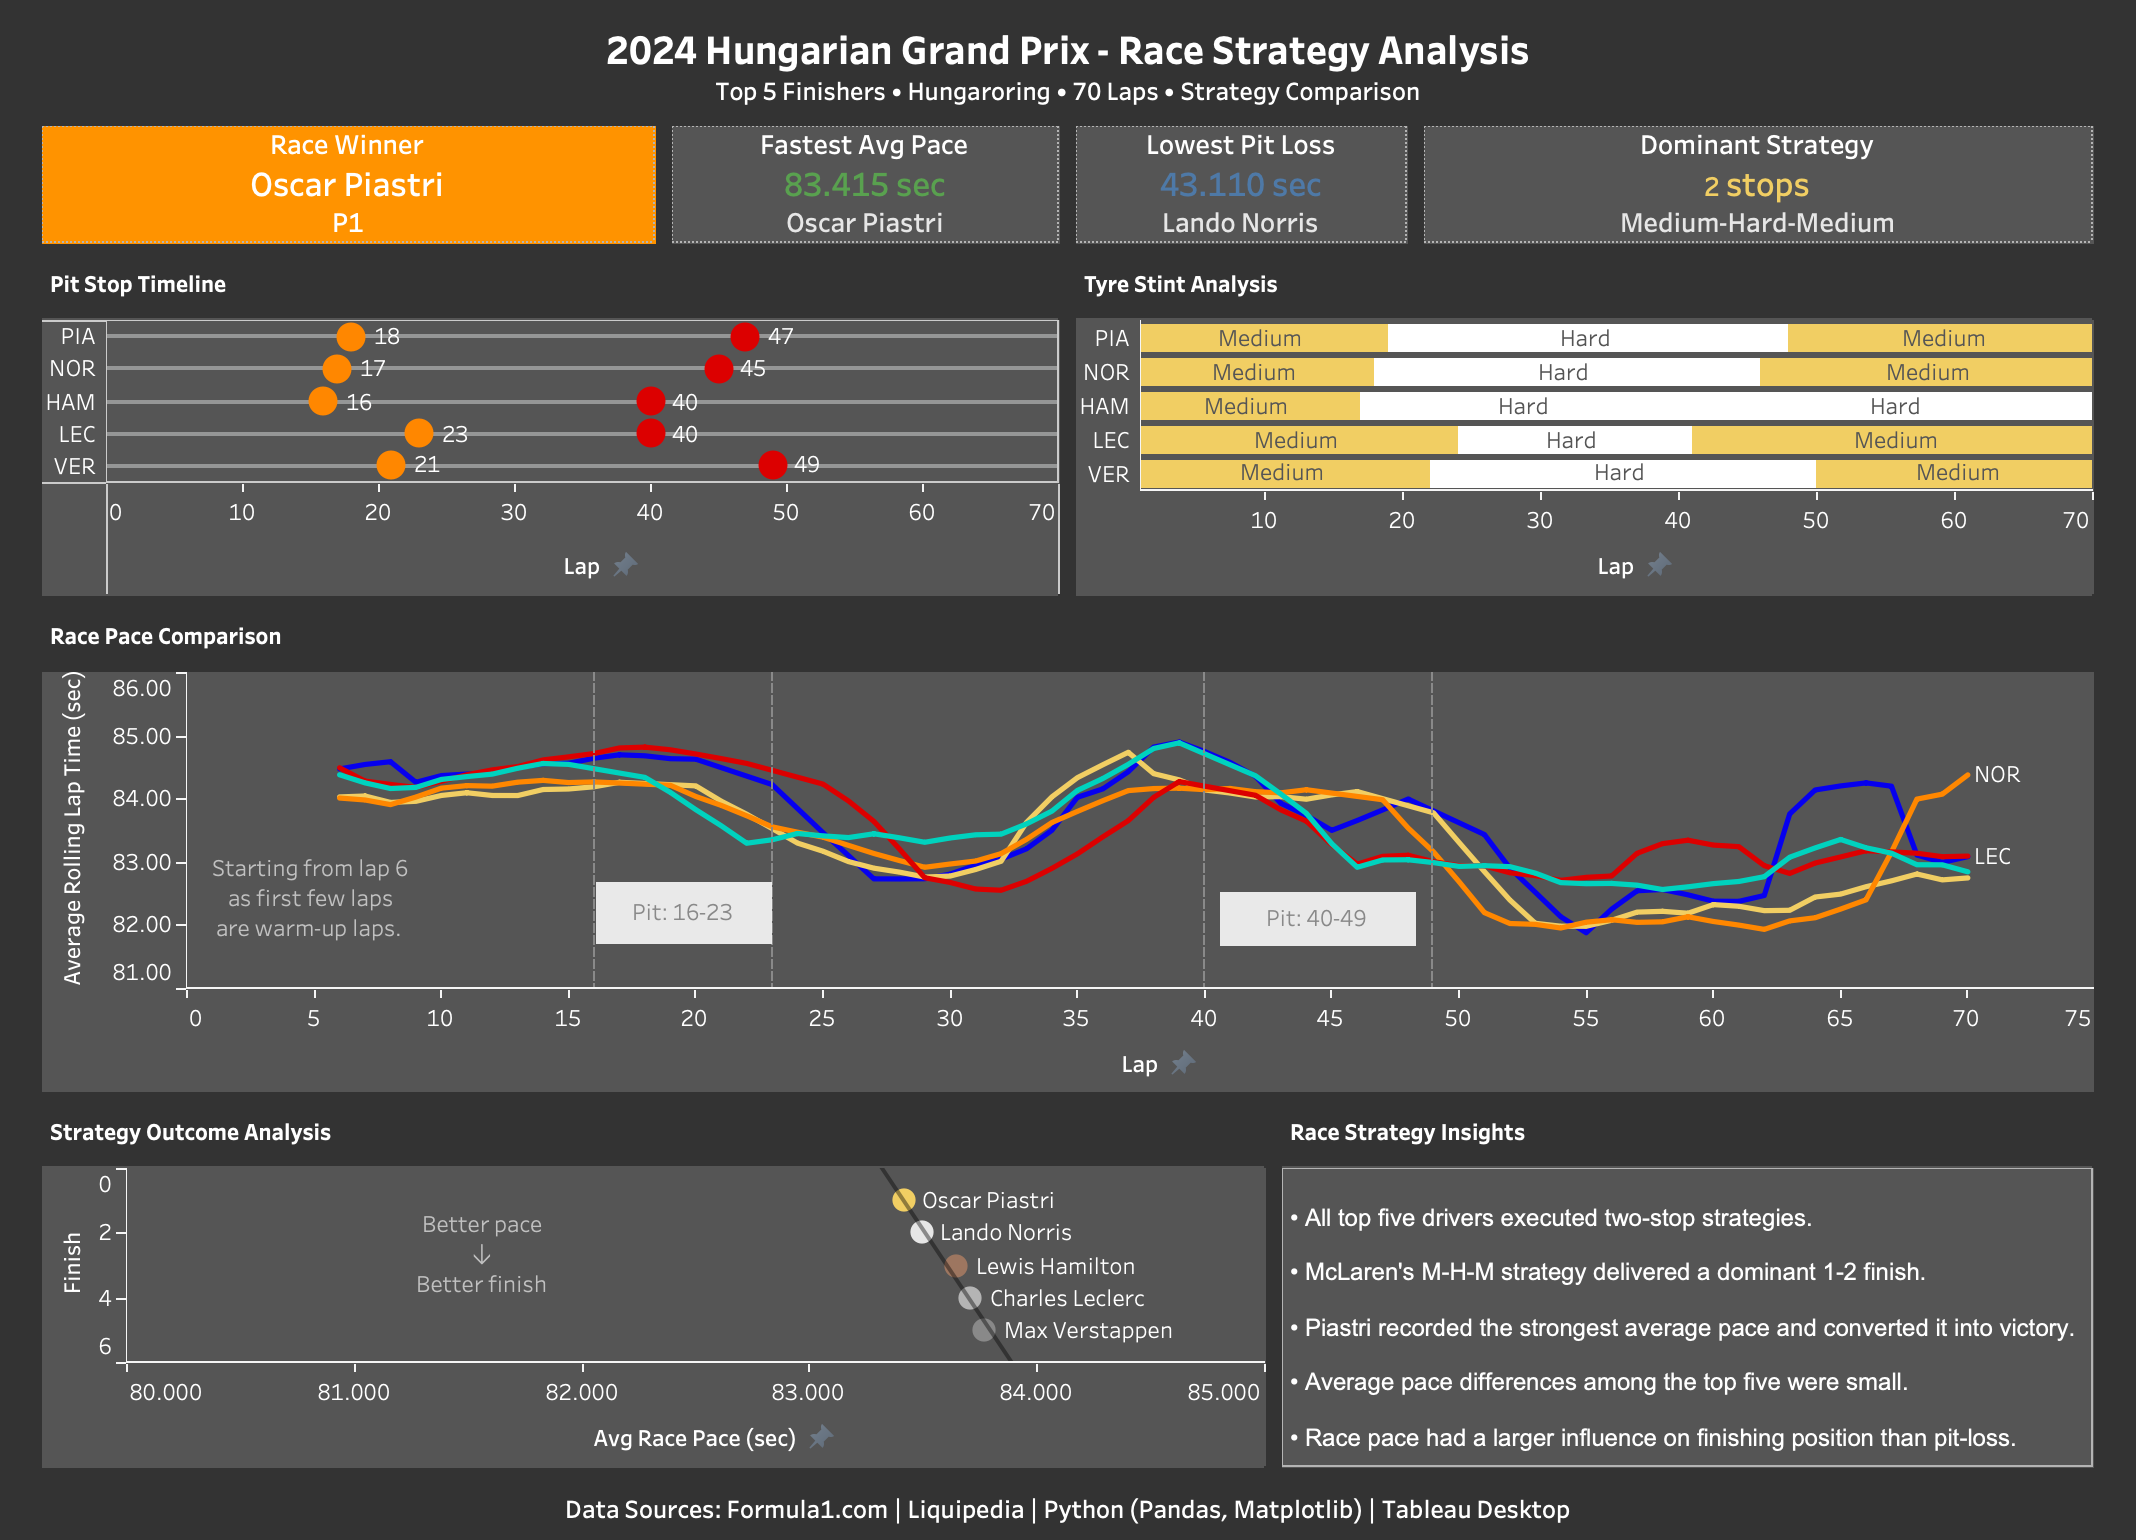

What the dashboard file says about the page in this screenshot:
{"tool":"tableau","page":{"name":"2024 Hungarian GP Dashboard","canvas":[1050,780],"ordinal":0},"visuals":[{"type":"text","box":[8,8,1034,53.1]},{"type":"worksheet","title":"Winner KPI","mark":"Text","box":[8,61.1,314.8,66.9]},{"type":"worksheet","title":"Best Average Pace KPI","mark":"Text","box":[322.8,61.1,202.2,66.9]},{"type":"worksheet","title":"Lowest Pit Loss KPI","mark":"Text","box":[525,61.1,174.3,66.9]},{"type":"worksheet","title":"Strategy Pattern KPI","mark":"Text","box":[699.3,61.1,342.7,66.9]},{"type":"worksheet","title":"Pit Stop Timeline","mark":"Circle","rows":["Driver"],"cols":["Calculation_3293604170342409","Pivot Field Values"],"box":[8,128,517,176]},{"type":"worksheet","title":"Tyre Stint Visualization","mark":"GanttBar","rows":["Driver"],"cols":["StartLap"],"box":[525,128,517,176]},{"type":"worksheet","title":"Race Pace Comparison","mark":"Line","rows":["Rolling Avg"],"cols":["Lap"],"box":[8,304,1034,248]},{"type":"worksheet","title":"Strategy Outcome Analysis","mark":"Circle","rows":["Finish"],"cols":["Avg Race Pace (sec)"],"box":[8,552,620,188]},{"type":"worksheet","title":"Race Strategy Insights","mark":"Text","box":[628,552,414,188]},{"type":"text","box":[8,740,1034,32]}]}

Visuals, with their boxes on the page's 1050x780 design canvas (x1, y1, x2, y2). These are canvas units, not pixel positions in the 2136x1540 screenshot, which may show the page scaled, cropped or inside an application window:
text: bbox(8, 8, 1042, 61)
"Winner KPI" worksheet (Text marks): bbox(8, 61, 323, 128)
"Best Average Pace KPI" worksheet (Text marks): bbox(323, 61, 525, 128)
"Lowest Pit Loss KPI" worksheet (Text marks): bbox(525, 61, 699, 128)
"Strategy Pattern KPI" worksheet (Text marks): bbox(699, 61, 1042, 128)
"Pit Stop Timeline" worksheet (Circle marks): bbox(8, 128, 525, 304)
"Tyre Stint Visualization" worksheet (GanttBar marks): bbox(525, 128, 1042, 304)
"Race Pace Comparison" worksheet (Line marks): bbox(8, 304, 1042, 552)
"Strategy Outcome Analysis" worksheet (Circle marks): bbox(8, 552, 628, 740)
"Race Strategy Insights" worksheet (Text marks): bbox(628, 552, 1042, 740)
text: bbox(8, 740, 1042, 772)
